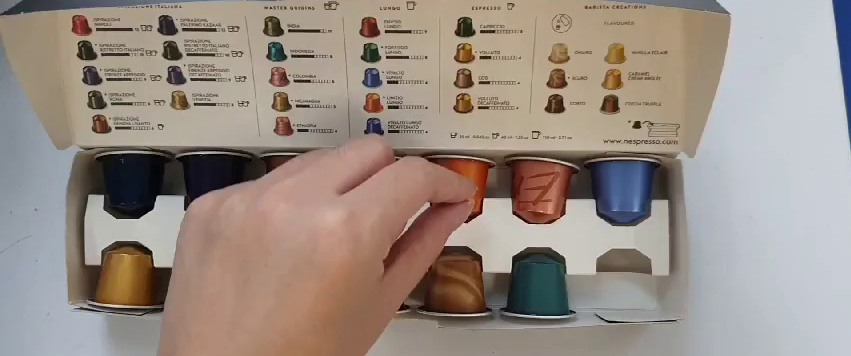capsule_6: (504, 154, 577, 226)
